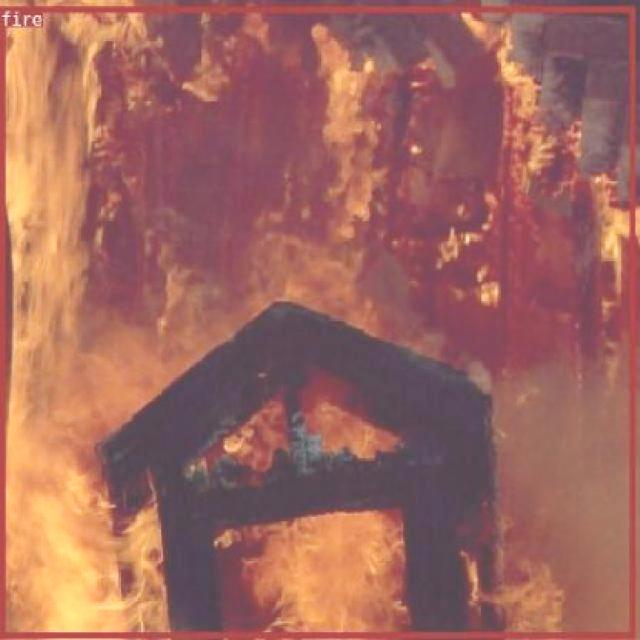fire: (0, 6, 634, 637)
